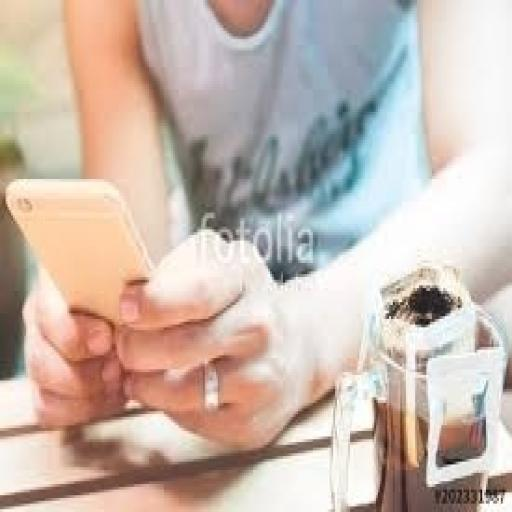texting: (17, 0, 510, 453)
